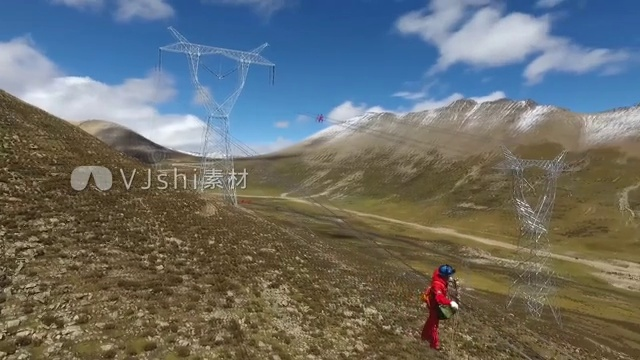tower_body: (151, 19, 286, 204), (486, 141, 576, 331)
tower_foot: (505, 270, 564, 327), (197, 148, 236, 201)
tower_head: (156, 24, 281, 117), (492, 144, 571, 233)
